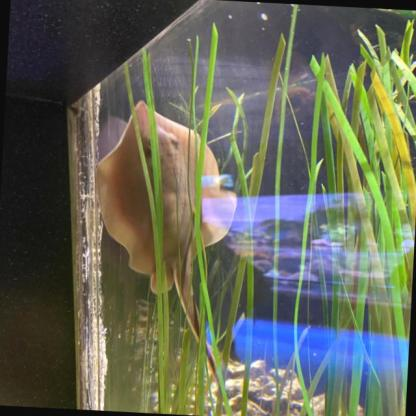stingray: (88, 97, 242, 298)
